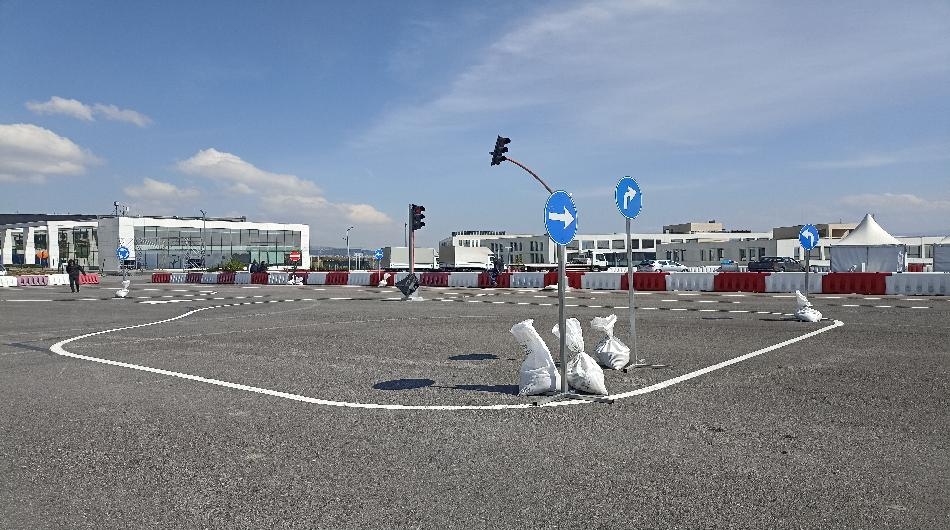saga_mecburi_1: (545, 189, 578, 245)
saga_mecburi_2: (613, 173, 645, 220)
sola_mecburi_2: (796, 222, 819, 250)
